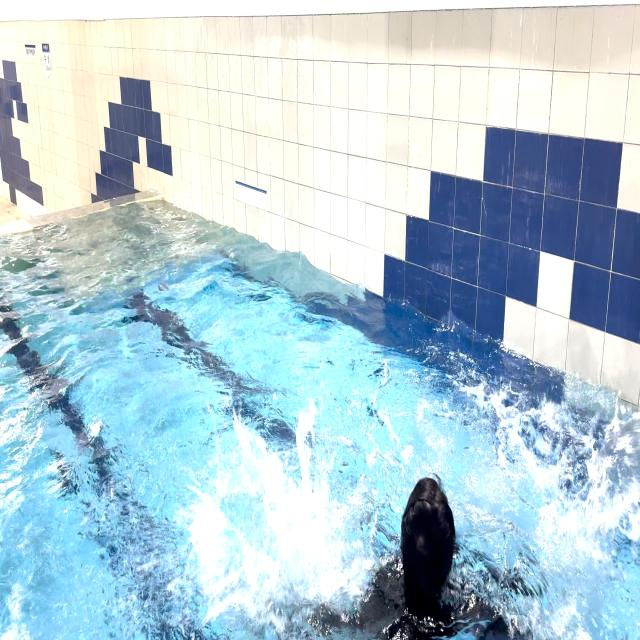Swimming: (216, 393, 593, 640)
